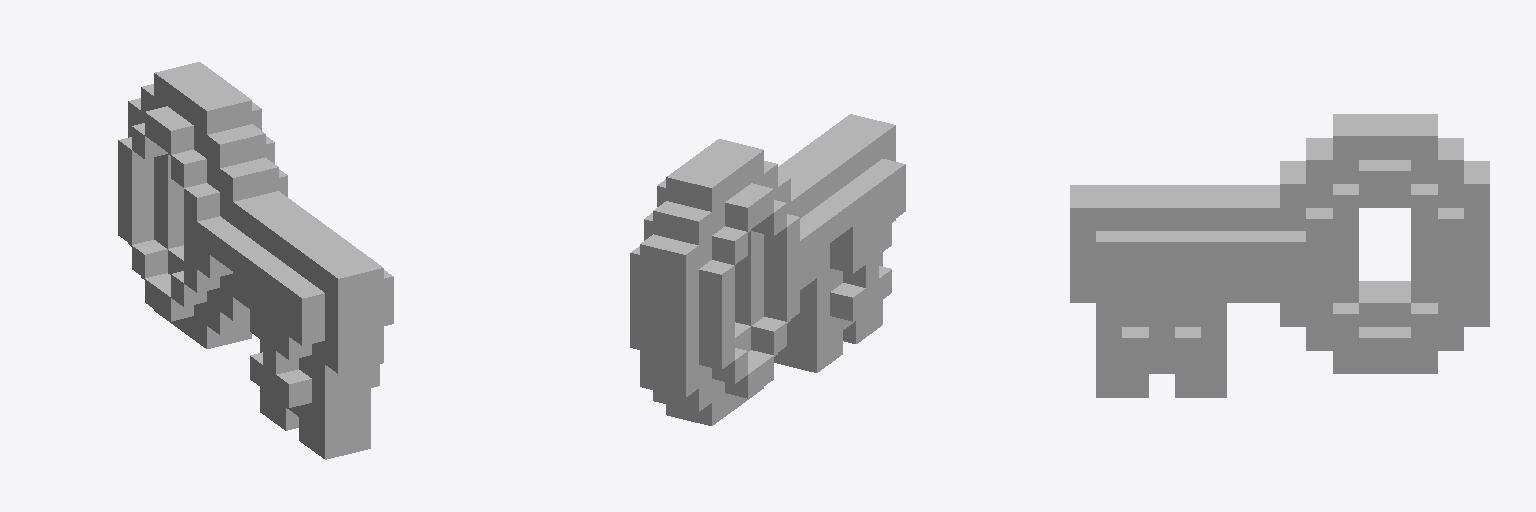
Rendered from key.obj.
The picture shows the model from 3 angles: view 1: azimuth 30°, elevation 25°; view 2: azimuth 150°, elevation 25°; view 3: azimuth 270°, elevation 25°; orthographic projection.
Visible parts, largest first — view 1: object 1; view 2: object 1; view 3: object 1.
Part boxes in pixels (x1,y1,x2,y2): object 1: (118, 62, 393, 459); object 1: (630, 114, 905, 425); object 1: (1070, 114, 1489, 397).
Size of the model in its own units: 0.4 by 1.1 by 1.6.